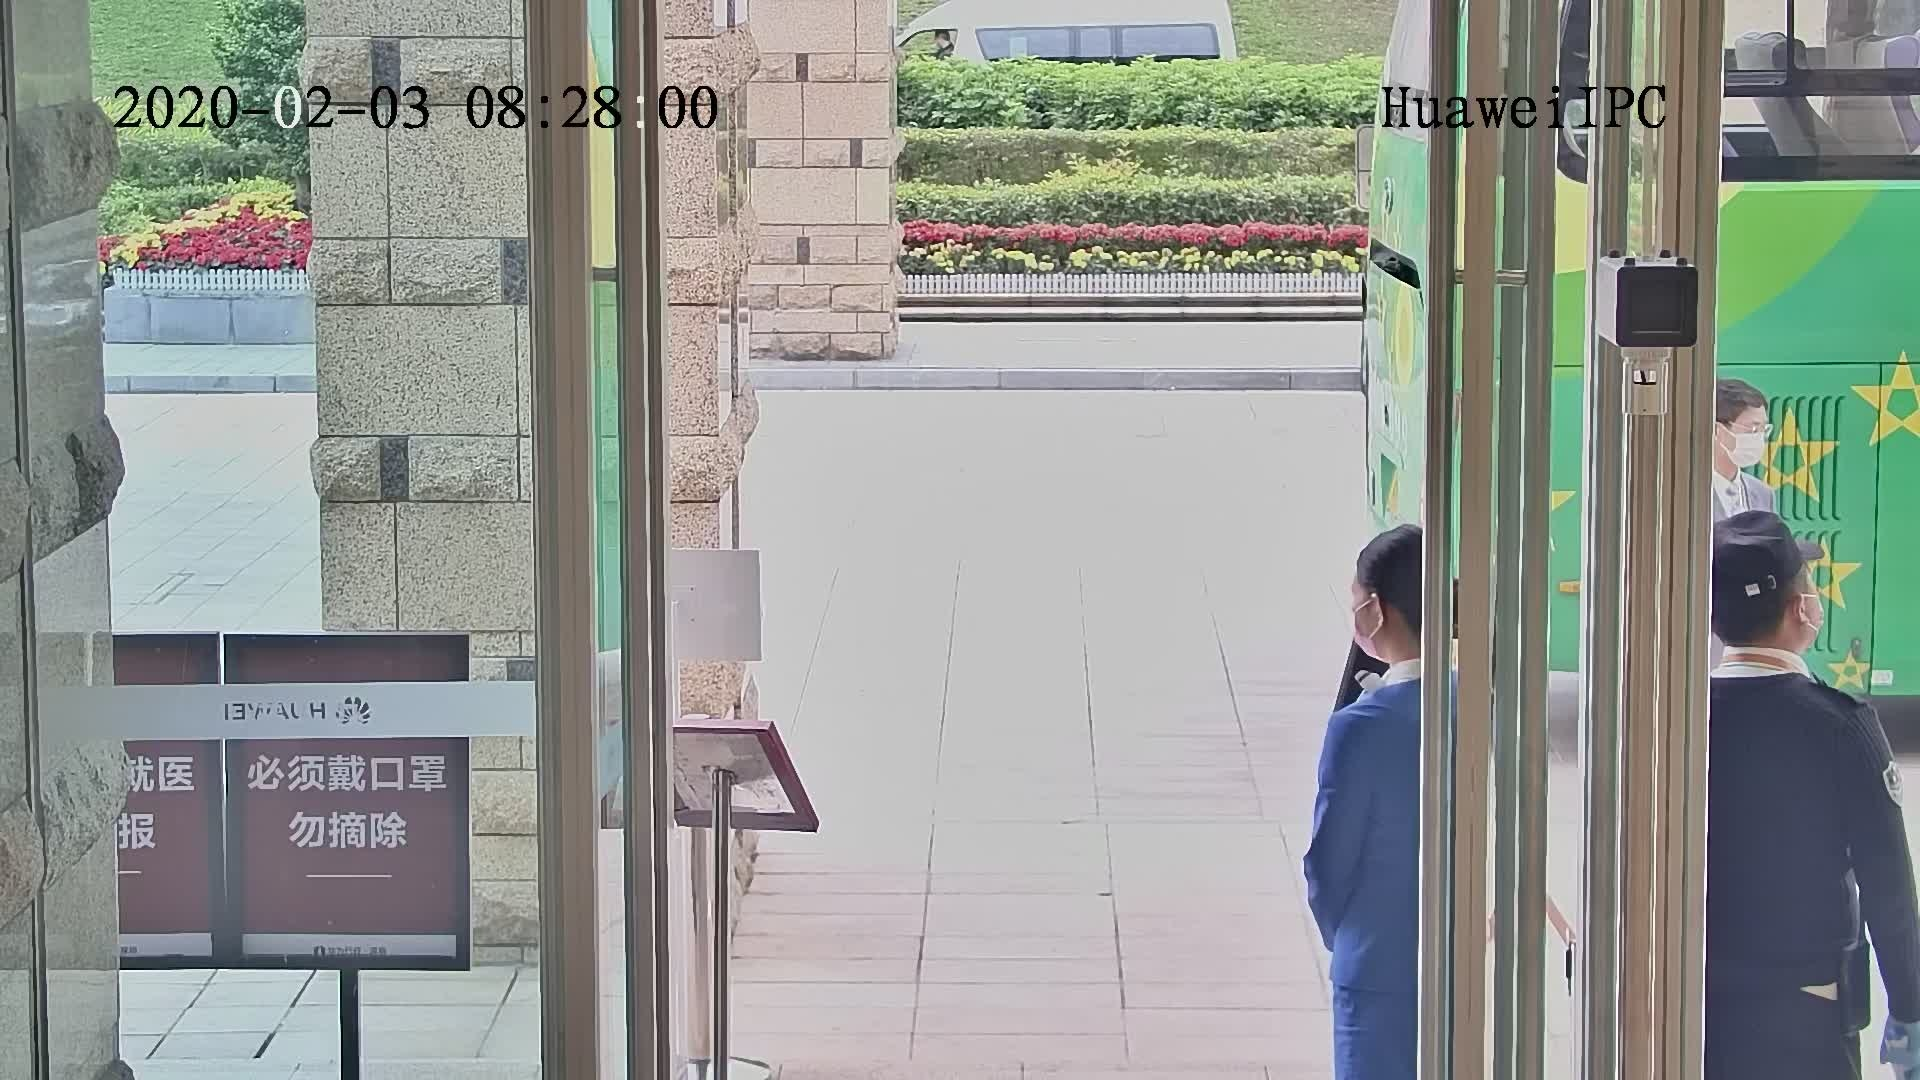face: (1725, 402, 1769, 482)
mask: (1725, 426, 1769, 469)
person: (1699, 507, 1874, 778), (1335, 517, 1434, 771), (1704, 379, 1785, 517)
